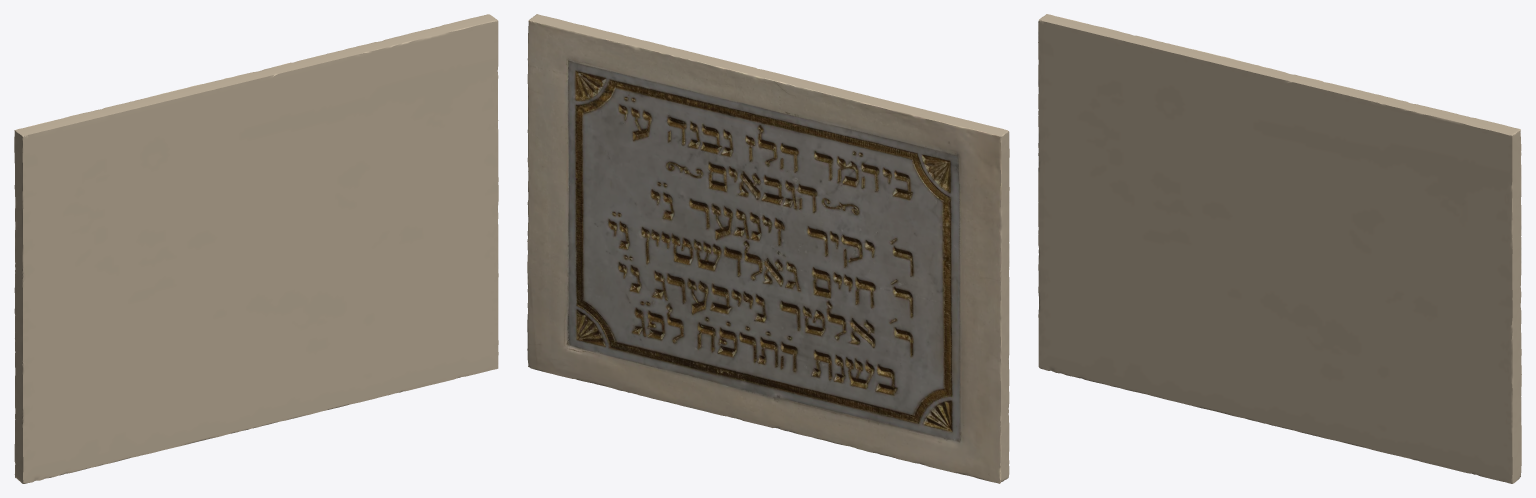
File: preview.glb
3 renders of one model, left to right at view 1: azimuth 30°, elevation 25°; view 2: azimuth 150°, elevation 25°; view 3: azimuth 330°, elevation 25°, orthographic.
Parts seen in each view (by area): view 1: Object_2; view 2: Object_2; view 3: Object_2.
Part boxes in pixels (box(x1,y1,x2,y2)): Object_2: box(14, 14, 498, 483); Object_2: box(527, 14, 1009, 483); Object_2: box(1038, 14, 1521, 483).
Size of the model in its own units: 41.8 by 29.34 by 1.47.
Materials: 1 (1 with a texture image).
